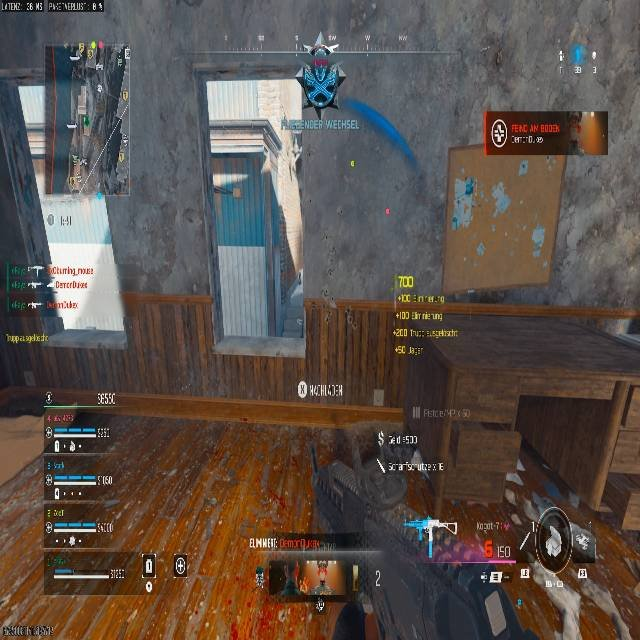player: (295, 45, 346, 110)
